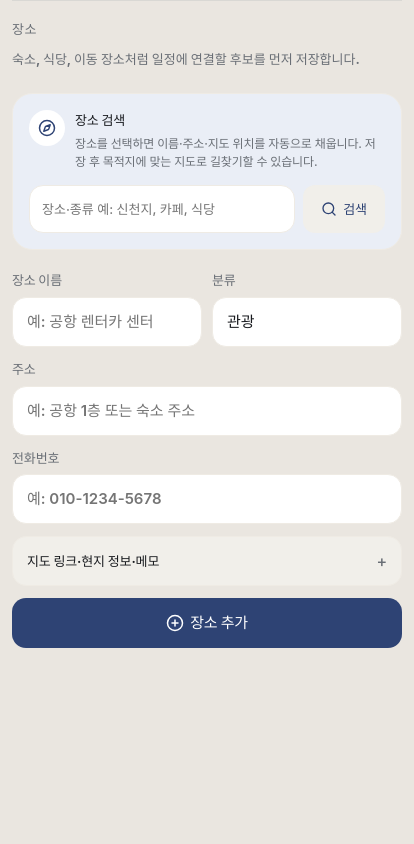
Test: ManagePlaceCreateForm › 검색 결과를 선택하면 선택한 후보만 남기고 저장 행동을 바로 안내한다
This screenshot has width=414, height=844.
Expected: the element "장소 검색" is shown, top-left (12, 93), bottom-right (402, 250)
In the field with placeholder "장소·종류 예: 신천지, 카페, 식당": [162, 209] box top-left (29, 185), bottom-right (295, 233), type "카페"
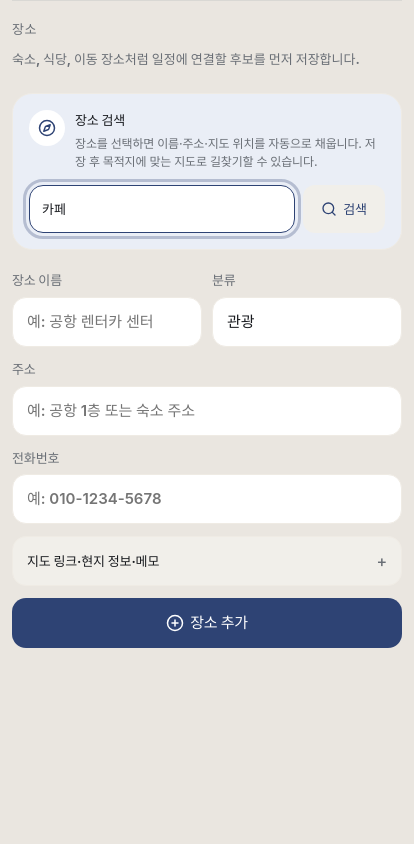
Click the button "검색": [344, 209] box top-left (303, 185), bottom-right (385, 233)
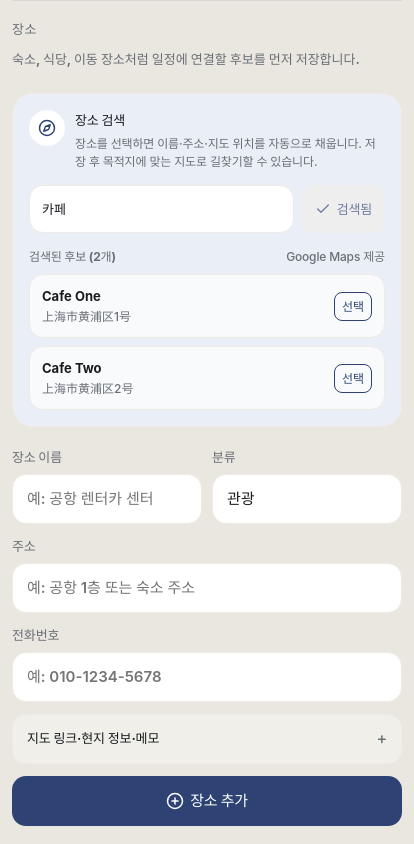
Click the button "Cafe One 上海市黄浦区1号 선택": [71, 296] box top-left (29, 274), bottom-right (385, 338)
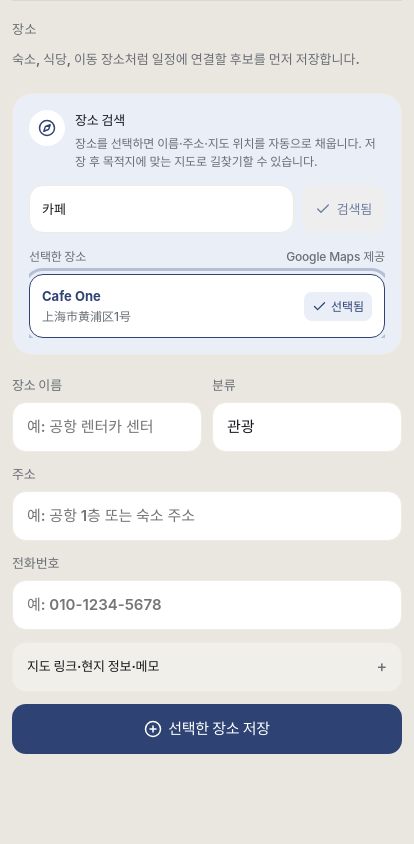
Now the text "Cafe One" is shown, box top-left (42, 288), bottom-right (101, 304)
Now the button "Cafe Two" is gone
Now the button "선택한 장소 저장" is shown, box top-left (12, 704), bottom-right (402, 754)
